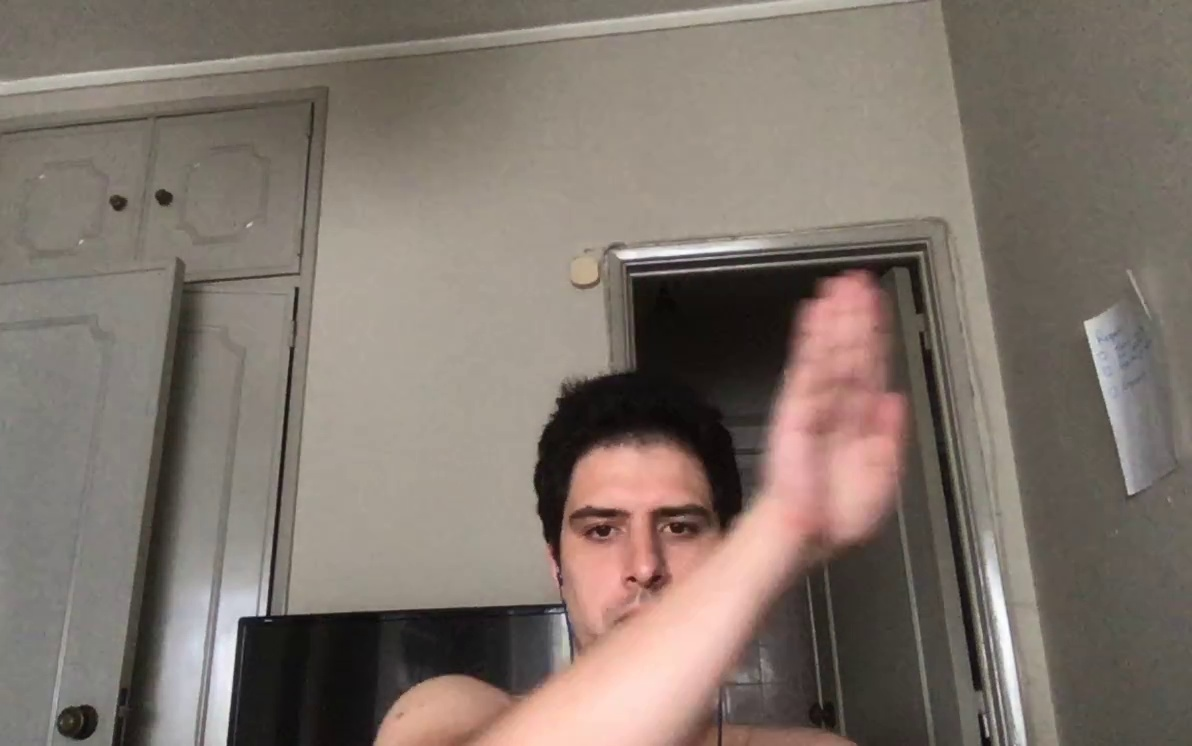b: (761, 254, 913, 549)
